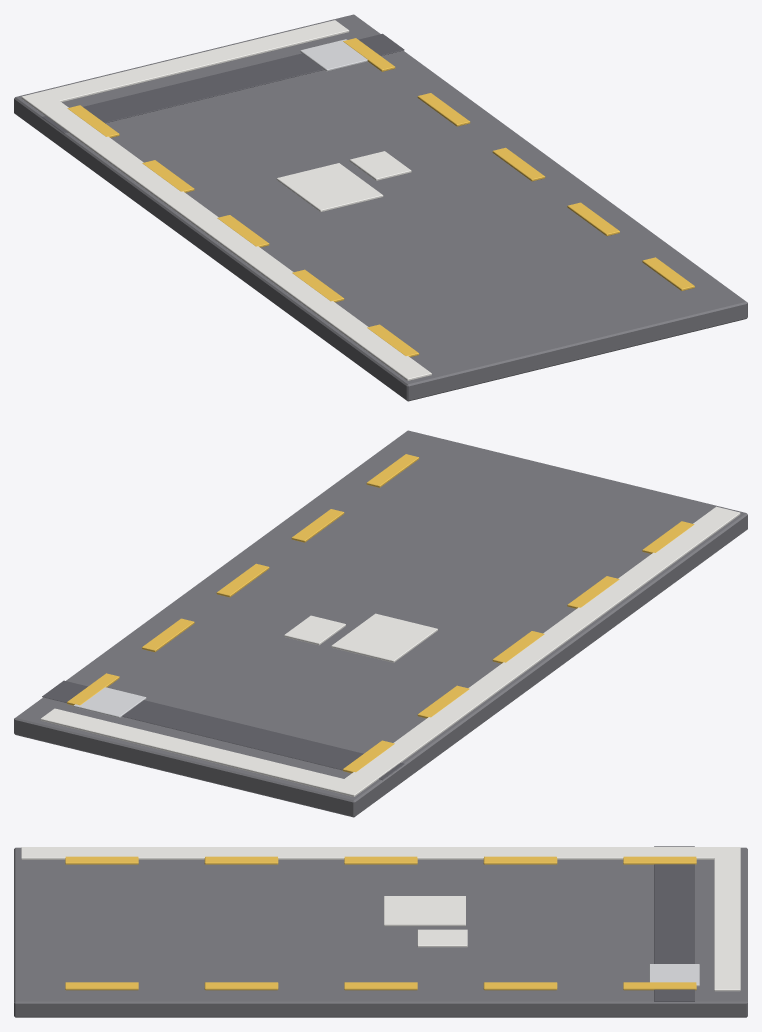
Rendered from motorway-services-and-truck-park-family-bay-tile-060554f5__35952.glb.
3 renders of one model, top to bottom at view 1: azimuth 30°, elevation 25°; view 2: azimuth 150°, elevation 25°; view 3: azimuth 270°, elevation 25°, orthographic. The views are drawn at different scales.
Visible parts, largest first — view 1: family-bay-tile; view 2: family-bay-tile; view 3: family-bay-tile.
Part boxes in pixels (<box>): family-bay-tile: <box>14,14,747,401</box>; family-bay-tile: <box>14,430,747,817</box>; family-bay-tile: <box>14,846,747,1017</box>.
Size of the model in its own units: 2.5 by 0.1374 by 5.
